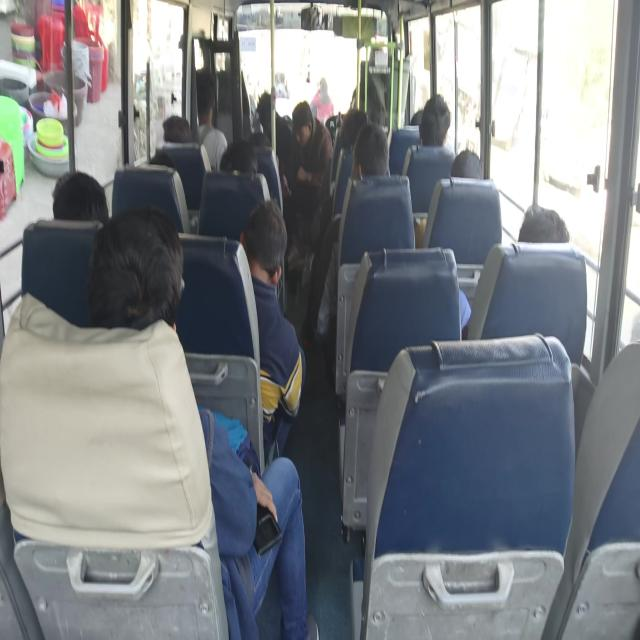person: (100, 227, 184, 326), (53, 178, 113, 232), (527, 209, 574, 263), (359, 134, 398, 199), (454, 141, 493, 198), (247, 208, 285, 260), (421, 81, 451, 141), (222, 141, 262, 185), (190, 71, 218, 113), (141, 154, 181, 182), (160, 112, 188, 146), (340, 116, 365, 153), (290, 108, 314, 145), (363, 43, 383, 75), (256, 93, 276, 124), (244, 127, 270, 149), (223, 51, 243, 78)
